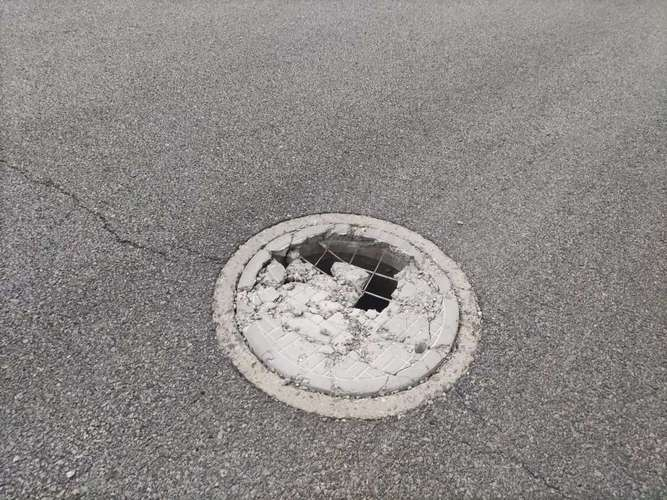broke: (206, 204, 490, 428)
